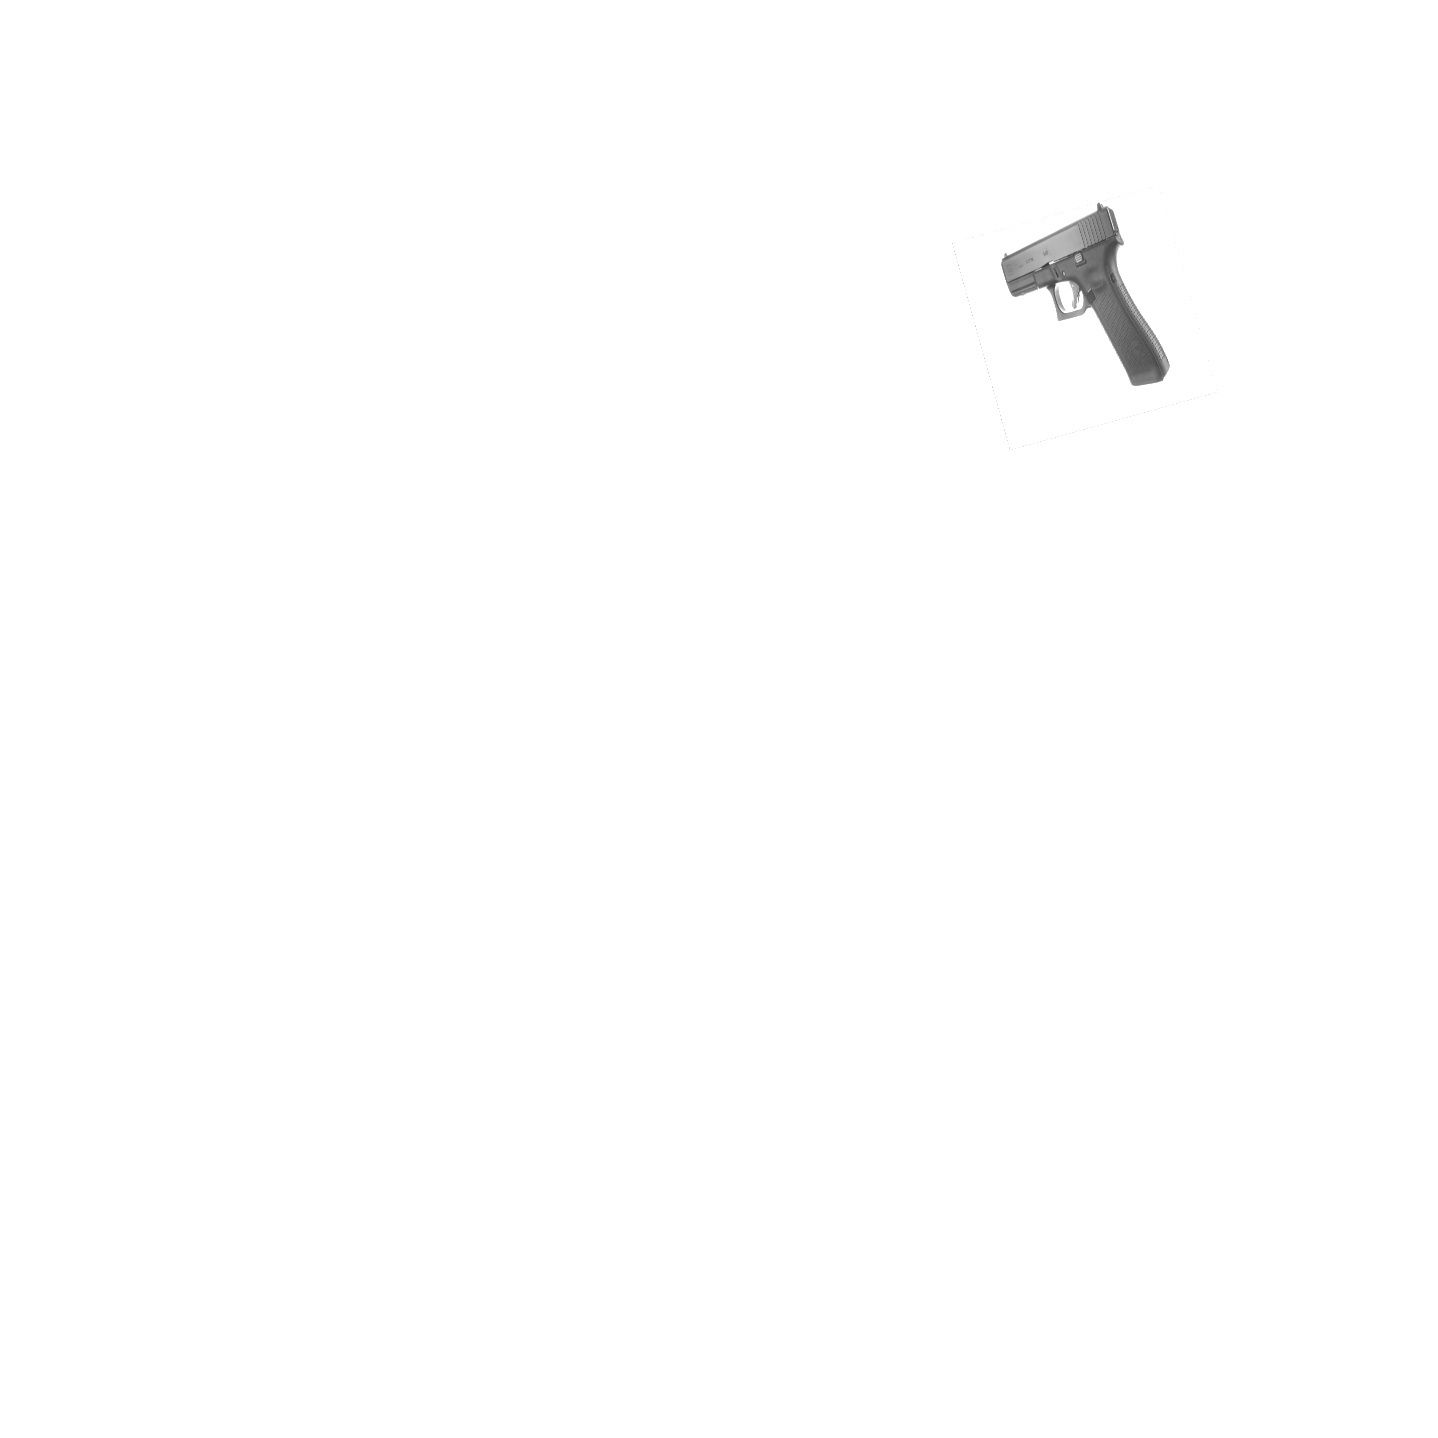gun: (989, 190, 1183, 402)
